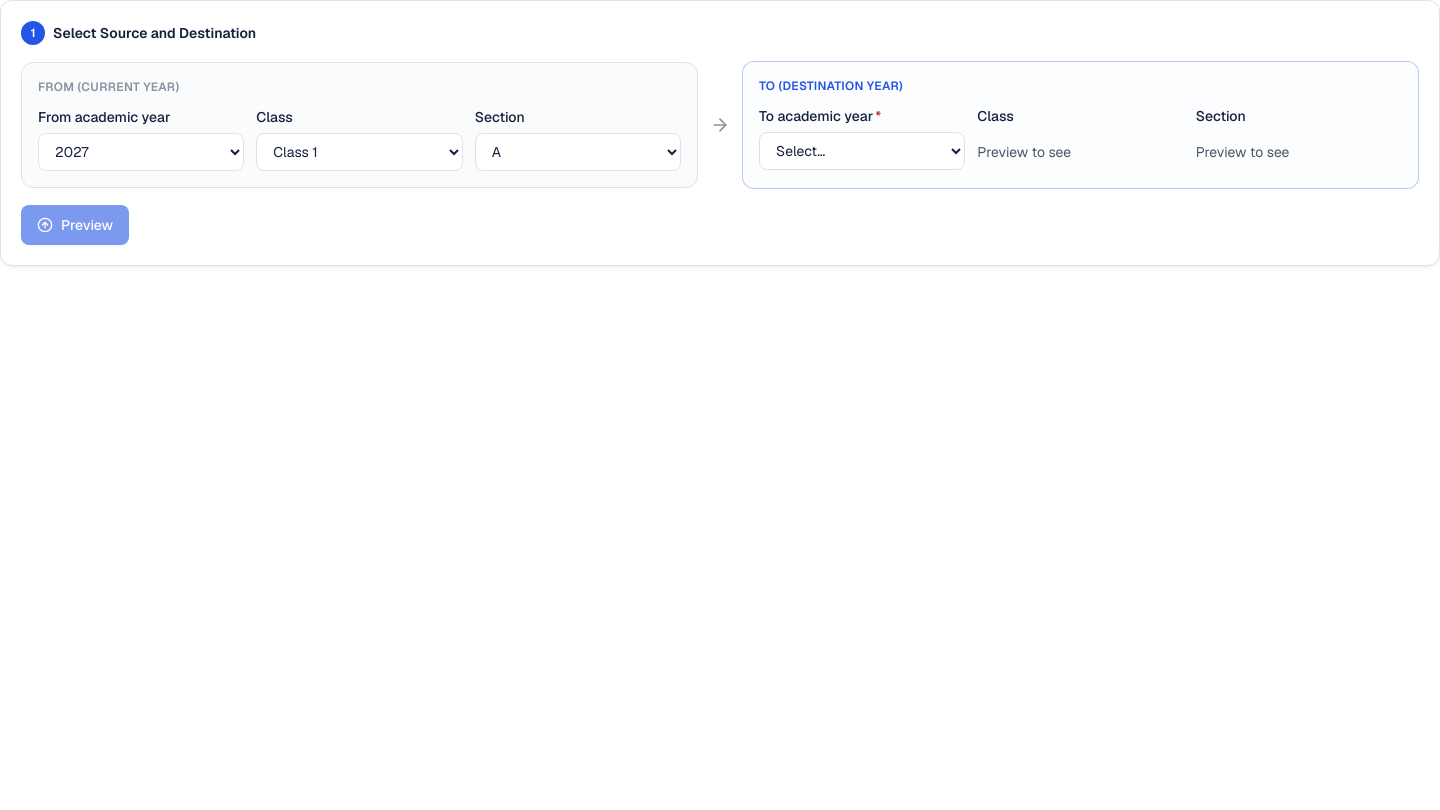
PromotionWizard — destination-not-ready state › shows a graceful warning (not a hard failure) when only the retained class is missing
Select "2028" in the dropdown labelled "To academic year" at (862, 151), box [759,132,965,170]
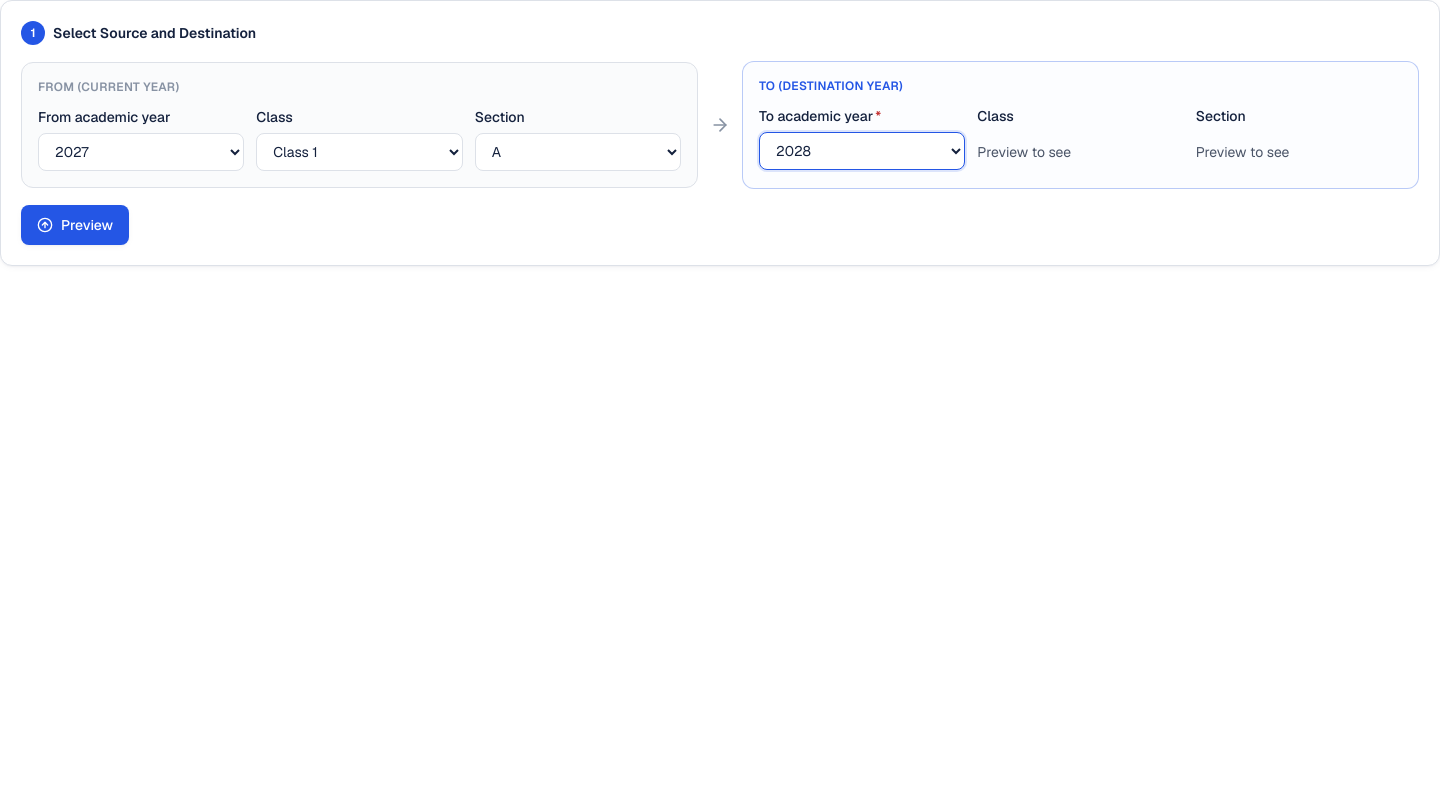
expect the button "Preview" is enabled: met
Click the button "Preview" at (75, 225), box [21,205,129,245]
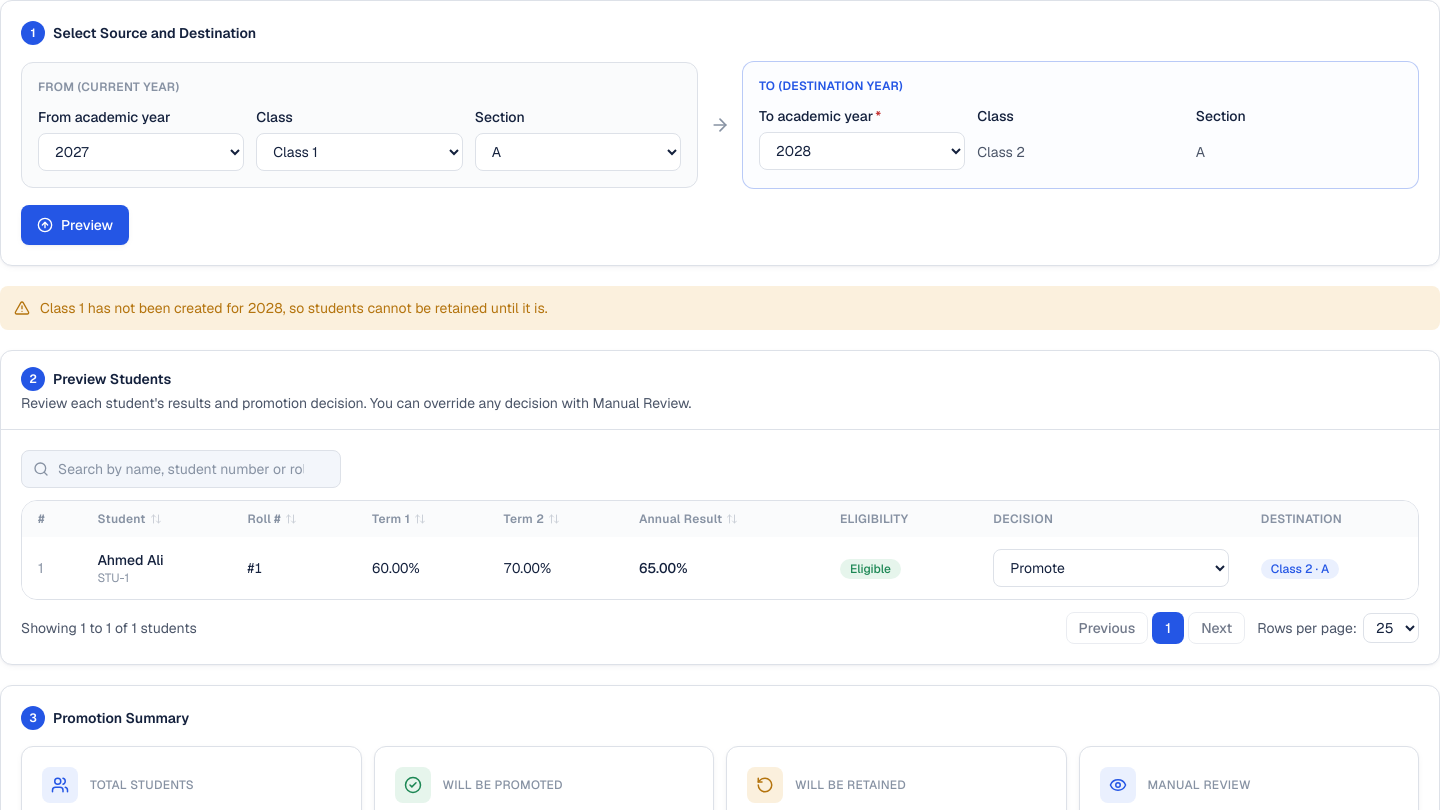
expect the text "cannot be retained until it is" is shown: met, box [40,299,548,317]
expect the text "Preview Students" is shown: met, box [53,370,171,388]
